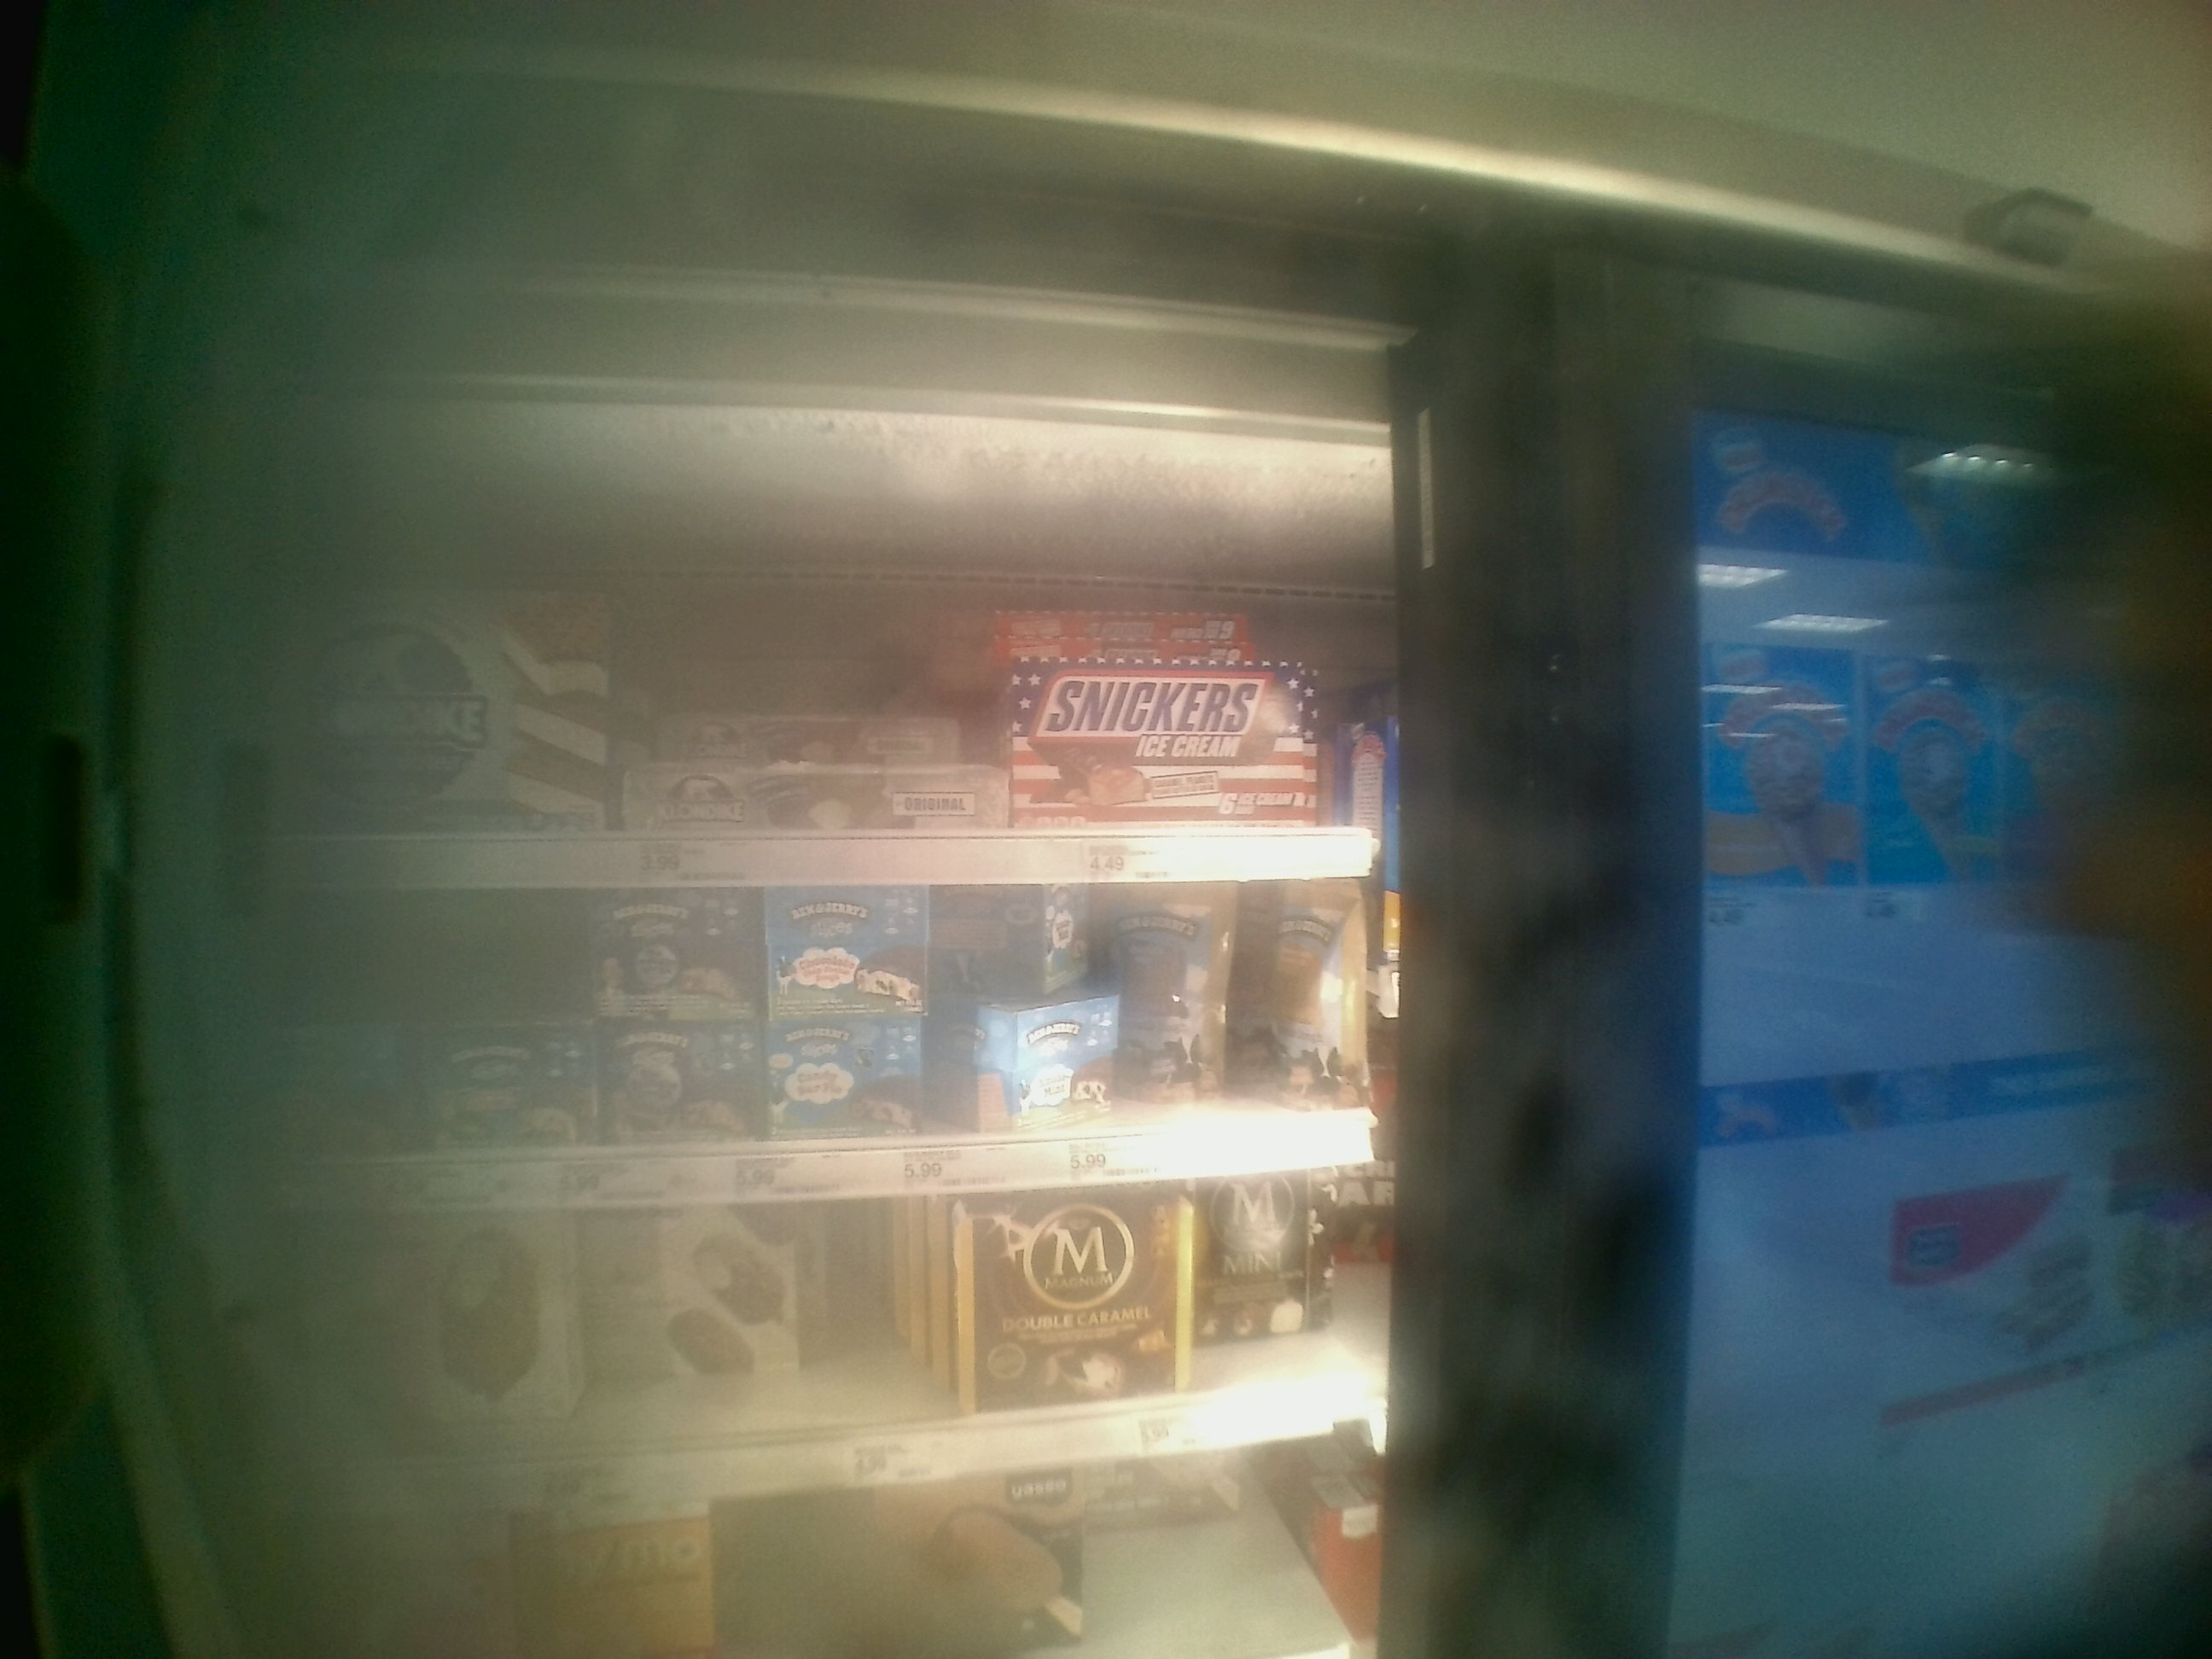ice-cream-shelf: (235, 884, 1395, 1215)
